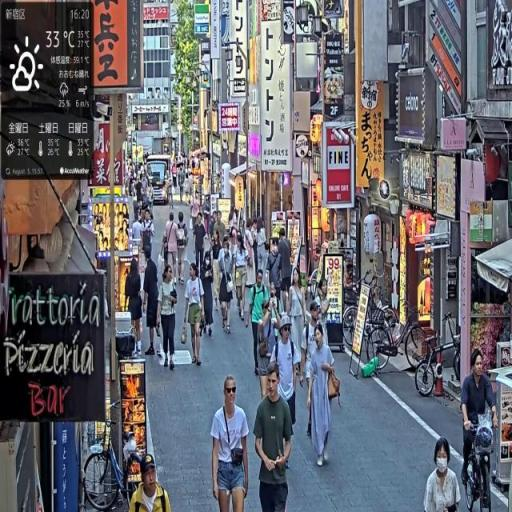person: (253, 363, 295, 512), (460, 348, 498, 509), (211, 375, 250, 512), (306, 324, 343, 468), (271, 316, 301, 436), (302, 300, 325, 438), (424, 441, 462, 512), (131, 454, 174, 512), (159, 263, 180, 373), (185, 262, 206, 369), (143, 250, 163, 360), (290, 270, 308, 384), (255, 304, 275, 403), (126, 259, 145, 356), (219, 235, 236, 336), (277, 227, 295, 318), (233, 232, 250, 325), (163, 213, 180, 283), (176, 213, 190, 288)
